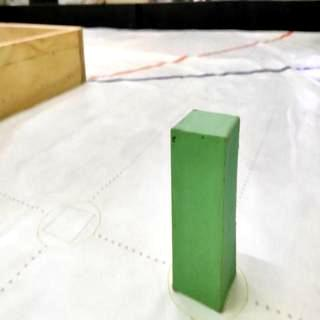greenbox: (168, 106, 244, 314)
